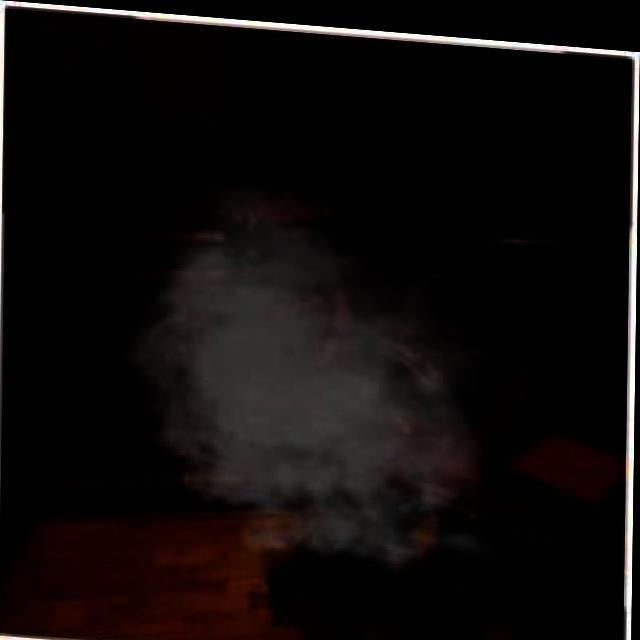Smoke: (117, 163, 528, 591)
